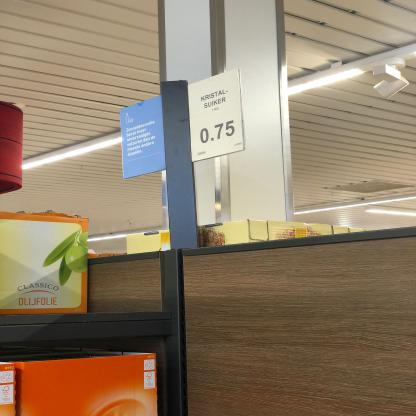prtg: (189, 68, 246, 163)
